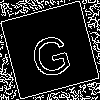G: (25, 25, 75, 80)
